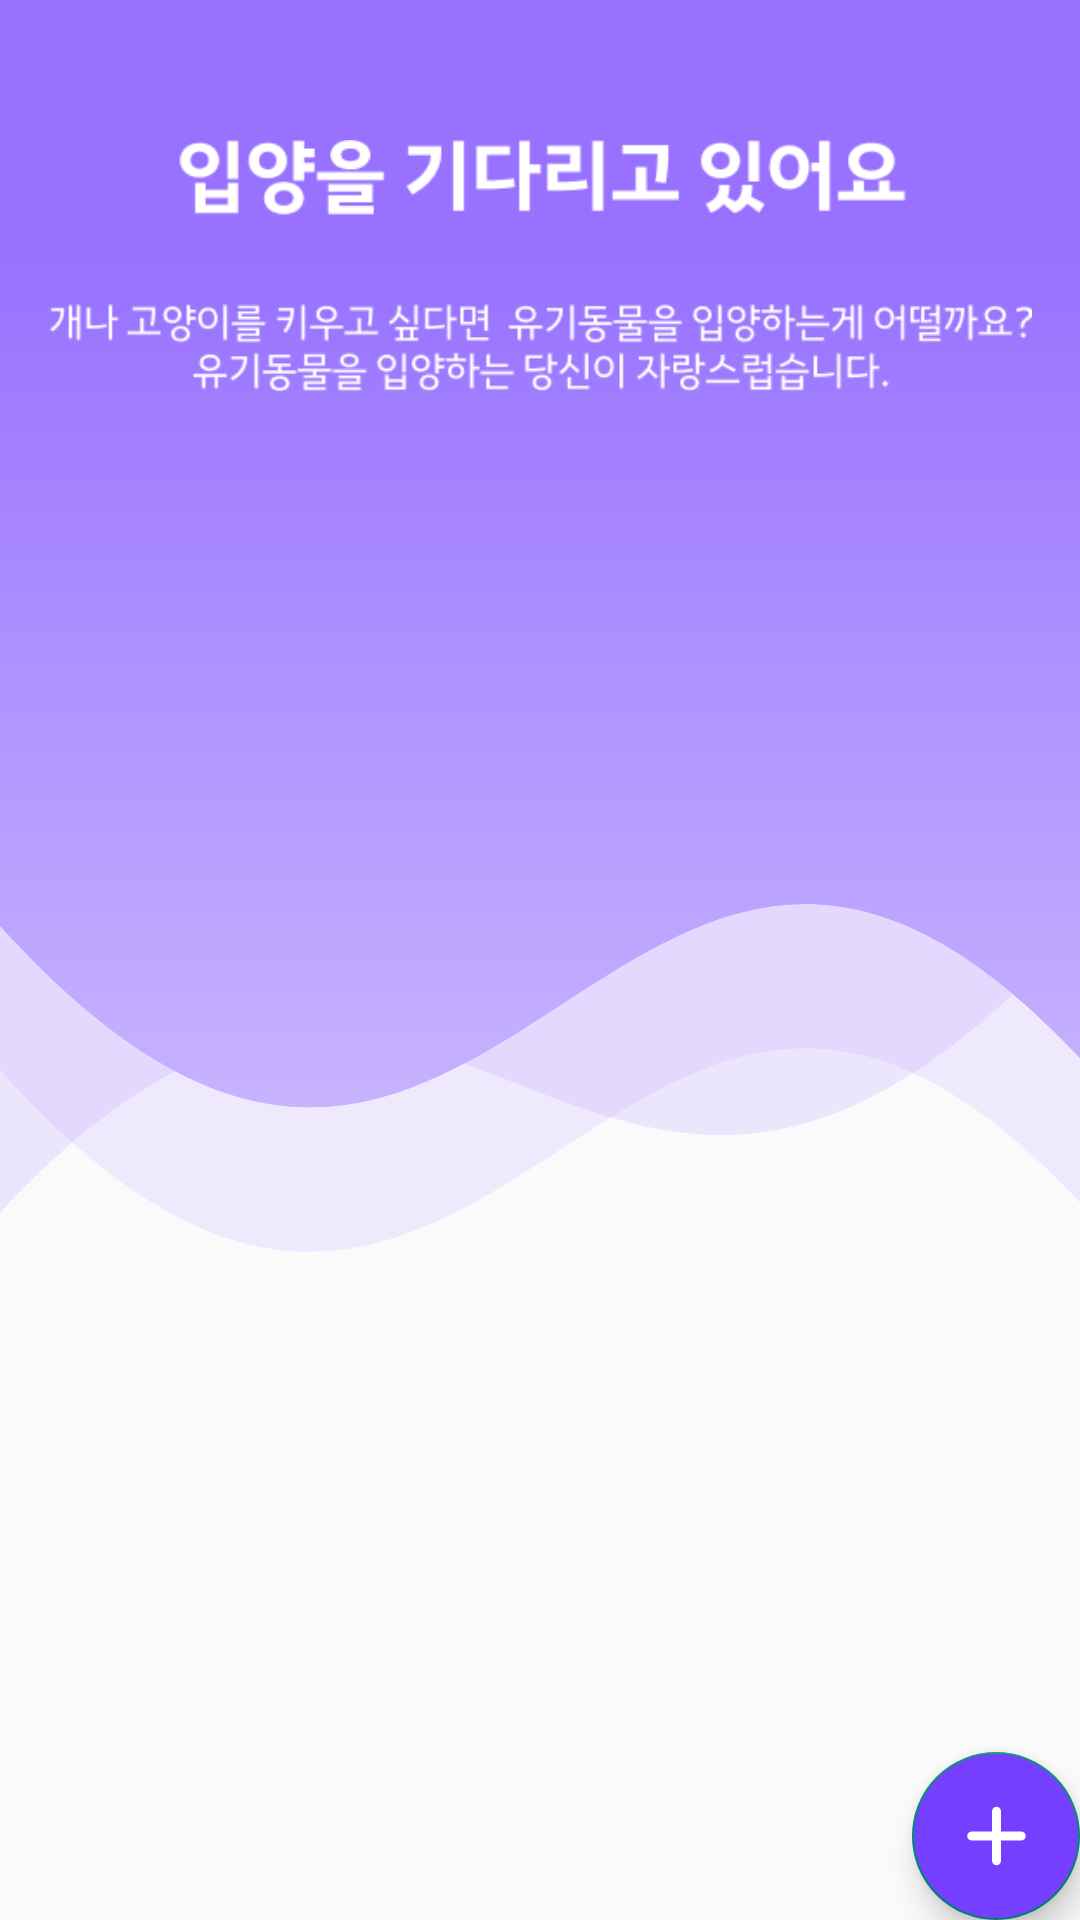

Icon click points for this 1080px x 1920px phone screenshot, format (x,y):
plus: (996,1836)
